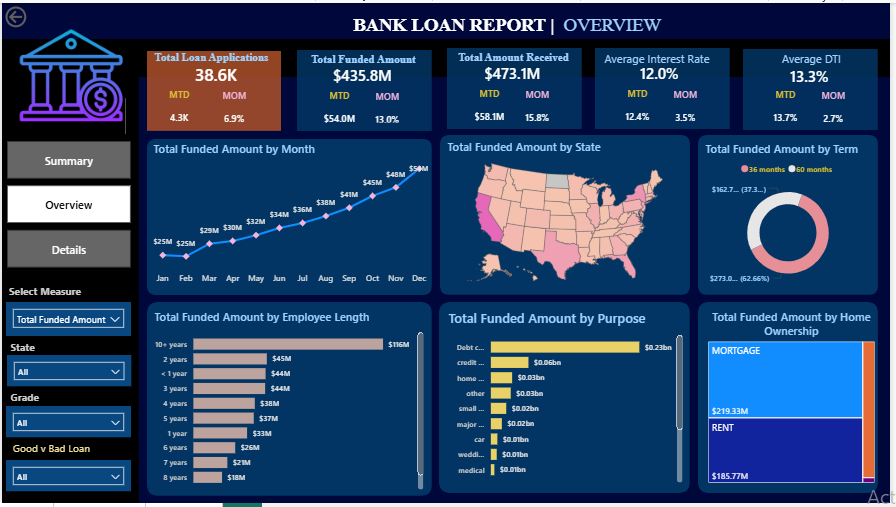

The page's visual inventory and layout, read from the dashboard file:
{"tool":"powerbi","page":{"name":"Overview","canvas":[1280,720],"ordinal":1},"visuals":[{"type":"shape","box":[640.5,64.8,194.4,116.6],"z":0,"group":"g3"},{"type":"shape","box":[853.9,64.8,194.4,116.6],"z":0,"group":"g4"},{"type":"shape","box":[1067.4,66.2,194.4,116.6],"z":0,"group":"g5"},{"type":"shape","box":[425.1,67.7,194.4,116.6],"z":0,"group":"g2"},{"type":"shape","box":[208.6,69.2,193,115.3],"z":0,"group":"g1"},{"type":"shape","box":[208.8,195.8,410.4,224.6],"z":0},{"type":"shape","box":[0,57.6,197.3,662.4],"z":1000},{"type":"cardVisual","fields":{"Data":["financial_loan.Total Amount Received"]},"box":[641.2,67.5,185.8,63.4],"z":1000,"group":"g3"},{"type":"cardVisual","fields":{"Data":["financial_loan.Avg Interest Rate"]},"box":[854.5,67.5,185.8,63.4],"z":1000,"group":"g4"},{"type":"cardVisual","fields":{"Data":["financial_loan.Total Funded Amount"]},"box":[425.8,70.4,185.8,63.4],"z":1000,"group":"g2"},{"type":"cardVisual","fields":{"Data":["financial_loan.Avg DTI"]},"box":[1069.7,72.1,185.8,63.4],"z":1000,"group":"g5"},{"type":"cardVisual","fields":{"Data":["financial_loan.Total Loan Application"]},"box":[215,73,184.3,56.2],"z":1000,"group":"g1"},{"type":"shape","box":[0,51.8,1280.2,54.7],"z":2000},{"type":"cardVisual","title":"MTD","fields":{"Data":["financial_loan.MTD Total Amount Received"]},"box":[645.7,120.8,111,66],"z":2000,"group":"g3"},{"type":"cardVisual","title":"MTD","fields":{"Data":["financial_loan.MTD Avg Int Rate"]},"box":[859.1,120.8,111,66],"z":2000,"group":"g4"},{"type":"cardVisual","title":"MTD","fields":{"Data":["financial_loan.MTD Loan Application"]},"box":[208.6,121.8,93.6,66.2],"z":2000,"group":"g1"},{"type":"cardVisual","title":"MTD","fields":{"Data":["financial_loan.MTD Avg DTI"]},"box":[1072.6,122.2,111,66],"z":2000,"group":"g5"},{"type":"cardVisual","title":"MTD","fields":{"Data":["financial_loan.MTD Funded Amount"]},"box":[430.3,123.7,111,66],"z":2000,"group":"g2"},{"type":"textbox","box":[483.8,11.5,486.7,46.1],"z":3000},{"type":"cardVisual","title":"MOM","fields":{"Data":["financial_loan.MOM Total Amount Received"]},"box":[724.4,121.9,93.6,66],"z":3000,"group":"g3"},{"type":"cardVisual","title":"MOM","fields":{"Data":["financial_loan.MOM Avg Int Rate"]},"box":[937.8,121.9,93.6,66],"z":3000,"group":"g4"},{"type":"cardVisual","title":"MOM","fields":{"Data":["financial_loan.MOM Avg DTI"]},"box":[1151.3,123.3,93.6,66],"z":3000,"group":"g5"},{"type":"cardVisual","title":"MOM","fields":{"Data":["financial_loan.MOM Loan Application"]},"box":[287,123.4,93.6,66.2],"z":3000,"group":"g1"},{"type":"cardVisual","title":"MOM","fields":{"Data":["financial_loan.MOM Funded Amount"]},"box":[509,124.8,93.6,64.8],"z":3000,"group":"g2"},{"type":"group","id":"g1","title":"Group 1","box":[196.6,64.5,208.8,125.1],"z":4000},{"type":"textbox","box":[196.6,64.5,208.8,31.7],"z":4000,"group":"g1"},{"type":"textbox","box":[637.3,65.1,197.3,29.2],"z":4000,"group":"g3"},{"type":"textbox","box":[421.9,68,197.3,29.2],"z":4000,"group":"g2"},{"type":"group","id":"g2","title":"Group 1","box":[421.9,67.7,197.3,122.4],"z":5000},{"type":"group","id":"g3","title":"Group 1","box":[637.3,64.8,197.3,123.8],"z":6000},{"type":"group","id":"g4","title":"Group 1","box":[853.9,64.8,194.4,123.8],"z":7000},{"type":"group","id":"g5","title":"Group 1","box":[1067.4,66.2,194.4,123.1],"z":8000},{"type":"textbox","box":[853.9,64.8,178.6,33.1],"z":9000},{"type":"textbox","box":[1069.9,64.8,191.5,34.6],"z":10000},{"type":"actionButton","box":[0,0,100,40],"z":11000},{"type":"slicer","fields":{"Values":["financial_loan.address_state"]},"box":[7.2,506.9,178.6,44.6],"z":12000},{"type":"textbox","box":[7.2,479.5,85,38.9],"z":13000},{"type":"slicer","fields":{"Values":["financial_loan.grade"]},"box":[5.8,580.3,180,44.6],"z":14000},{"type":"textbox","box":[7.2,551.5,85,38.9],"z":15000},{"type":"slicer","fields":{"Values":["financial_loan.purpose"]},"box":[5.8,658.1,180,44.6],"z":16000},{"type":"textbox","box":[5.8,625,131,33.1],"z":17000},{"type":"areaChart","fields":{"Y":["financial_loan.Total Funded Amount"],"Category":["Date Table.Month"]},"box":[213.1,198.7,406.1,216],"z":18000},{"type":"textbox","box":[0,398.9,123.8,38.9],"z":20000},{"type":"shape","box":[630.7,190.1,360,230.4],"z":21000},{"type":"shapeMap","fields":{"Category":["financial_loan.address_state"],"Value":["financial_loan.Total Funded Amount"]},"box":[636.5,195.8,348.5,218.9],"z":22000},{"type":"shape","box":[1002.2,190.1,259.2,230.4],"z":23000},{"type":"donutChart","fields":{"Category":["financial_loan.term"],"Y":["financial_loan.Total Funded Amount"]},"box":[1008,198.7,247.7,216],"z":24000},{"type":"shape","box":[208.8,430.6,410.4,279.4],"z":24001},{"type":"shape","box":[629.3,430.6,361.4,275],"z":24002},{"type":"barChart","fields":{"Category":["financial_loan.emp_length"],"Y":["financial_loan.Total Funded Amount"]},"box":[214.6,440.6,397.4,265],"z":24003},{"type":"shape","box":[1002.2,430.6,259.2,275],"z":24004},{"type":"barChart","fields":{"Category":["financial_loan.purpose"],"Y":["financial_loan.Total Funded Amount"]},"box":[637.9,440.6,347,254.9],"z":24005},{"type":"treemap","fields":{"Group":["financial_loan.home_ownership"],"Values":["financial_loan.Total Funded Amount"]},"box":[1012.3,440.6,249.1,254.9],"z":24006},{"type":"pageNavigator","box":[7.2,198.7,178.6,182.9],"z":24007},{"type":"image","box":[21.6,20.2,155.5,168.5],"z":24008},{"type":"slicer","fields":{"Values":["Select Measure.Select Measure"]},"box":[5.8,430.6,180,49],"z":24009}]}

Visuals, with their boxes in screenshot pixels (x1, y1, x2, y2), scaled from the page's 1280x720 canvas onto the 896x507 screenshot:
shape: 448:46:584:128
shape: 598:46:734:128
shape: 747:47:883:129
shape: 298:48:434:130
shape: 146:49:281:130
shape: 146:138:433:296
shape: 0:41:138:506
cardVisual - financial_loan.Total Amount Received: 449:48:579:92
cardVisual - financial_loan.Avg Interest Rate: 598:48:728:92
cardVisual - financial_loan.Total Funded Amount: 298:50:428:94
cardVisual - financial_loan.Avg DTI: 749:51:879:95
cardVisual - financial_loan.Total Loan Application: 150:51:280:91
shape: 0:36:895:75
"MTD" cardVisual: 452:85:530:132
"MTD" cardVisual: 601:85:679:132
"MTD" cardVisual: 146:86:212:132
"MTD" cardVisual: 751:86:829:133
"MTD" cardVisual: 301:87:379:134
textbox: 339:8:679:41
"MOM" cardVisual: 507:86:573:132
"MOM" cardVisual: 656:86:722:132
"MOM" cardVisual: 806:87:871:133
"MOM" cardVisual: 201:87:266:134
"MOM" cardVisual: 356:88:422:134
"Group 1" group: 138:45:284:134
textbox: 138:45:284:68
textbox: 446:46:584:66
textbox: 295:48:433:68
"Group 1" group: 295:48:433:134
"Group 1" group: 446:46:584:133
"Group 1" group: 598:46:734:133
"Group 1" group: 747:47:883:133
textbox: 598:46:723:69
textbox: 749:46:883:70
actionButton: 0:0:70:28
slicer - financial_loan.address_state: 5:357:130:388
textbox: 5:338:65:365
slicer - financial_loan.grade: 4:409:130:440
textbox: 5:388:65:416
slicer - financial_loan.purpose: 4:463:130:495
textbox: 4:440:96:463
areaChart - financial_loan.Total Funded Amount x Date Table.Month: 149:140:433:292
textbox: 0:281:87:308
shape: 441:134:693:296
shapeMap - financial_loan.address_state x financial_loan.Total Funded Amount: 446:138:690:292
shape: 702:134:883:296
donutChart - financial_loan.term x financial_loan.Total Funded Amount: 706:140:879:292
shape: 146:303:433:500
shape: 441:303:693:497
barChart - financial_loan.emp_length x financial_loan.Total Funded Amount: 150:310:428:497
shape: 702:303:883:497
barChart - financial_loan.purpose x financial_loan.Total Funded Amount: 447:310:689:490
treemap - financial_loan.home_ownership x financial_loan.Total Funded Amount: 709:310:883:490
pageNavigator: 5:140:130:269
image: 15:14:124:133
slicer - Select Measure.Select Measure: 4:303:130:338
